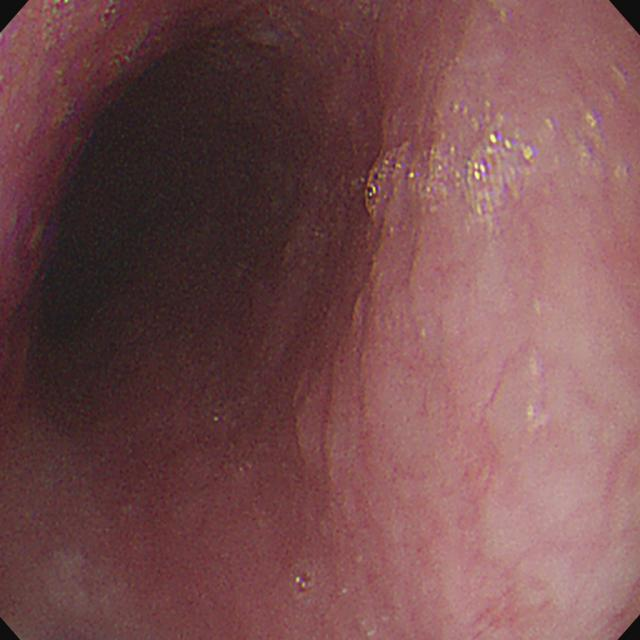E: (8, 46, 207, 389)
T: (363, 130, 538, 218)
